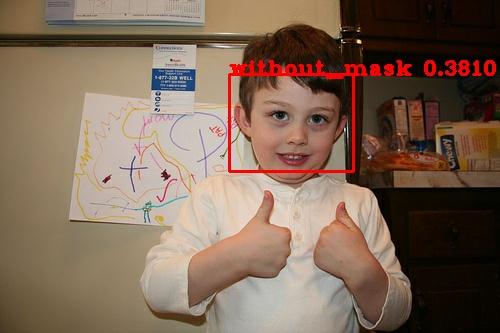without_mask: (236, 65, 351, 187)
